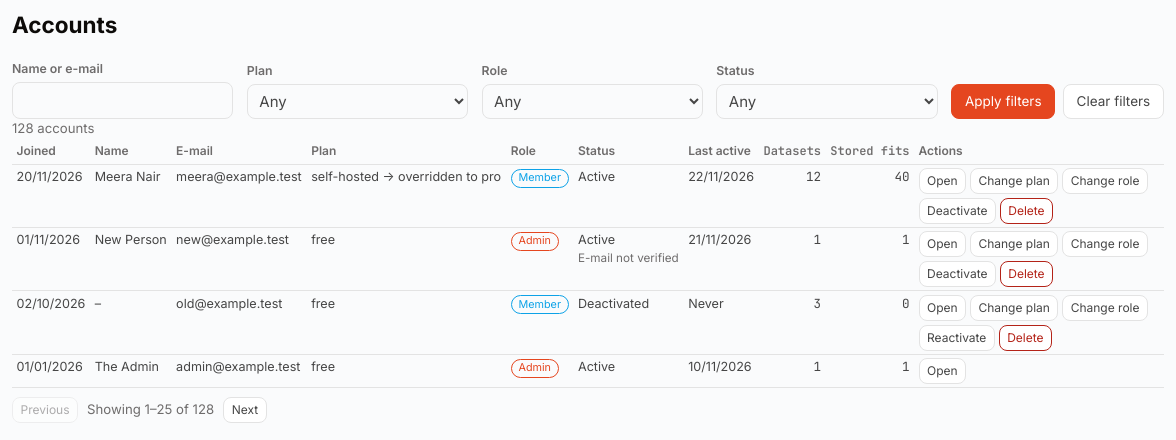
Test: UsersPage — filters and pages › clears the filters back to the unfiltered first page
Expected: the table named "Accounts" is shown, left=12, top=139, right=1164, bottom=388
In the search field labelled "Name or e-mail": (123, 101) left=12, top=82, right=233, bottom=119, type "meera"
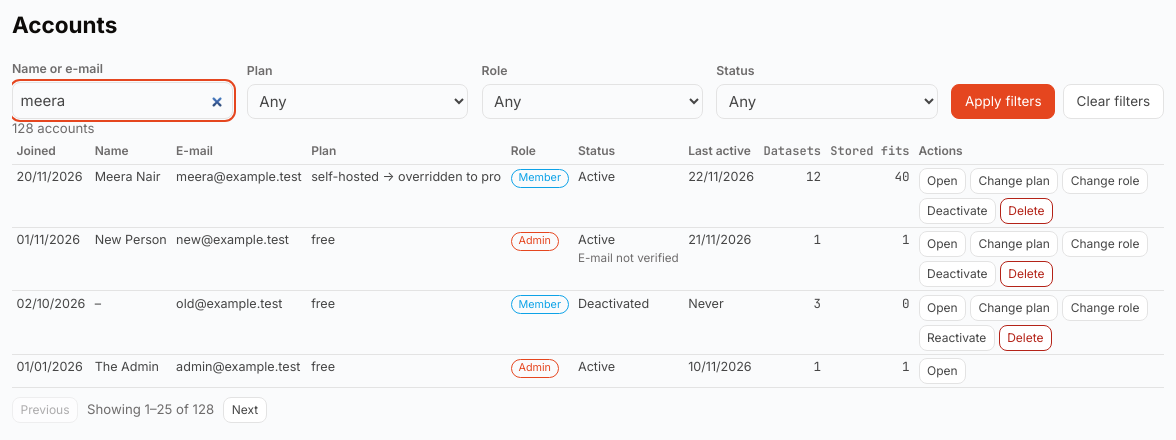
Select "Administrator" in the dropdown labelled "Role": (592, 102) left=482, top=84, right=703, bottom=119
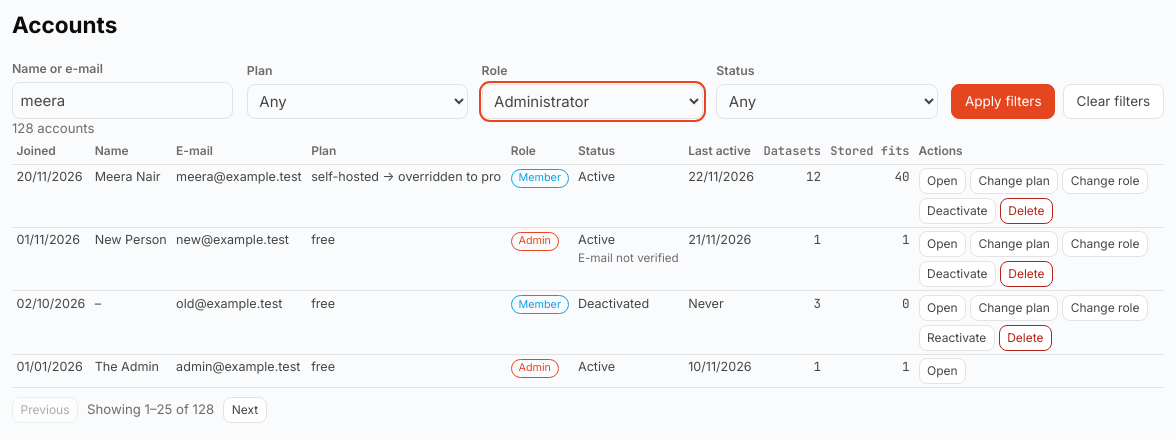
Click the button "Apply filters": (1003, 102) left=951, top=84, right=1055, bottom=119
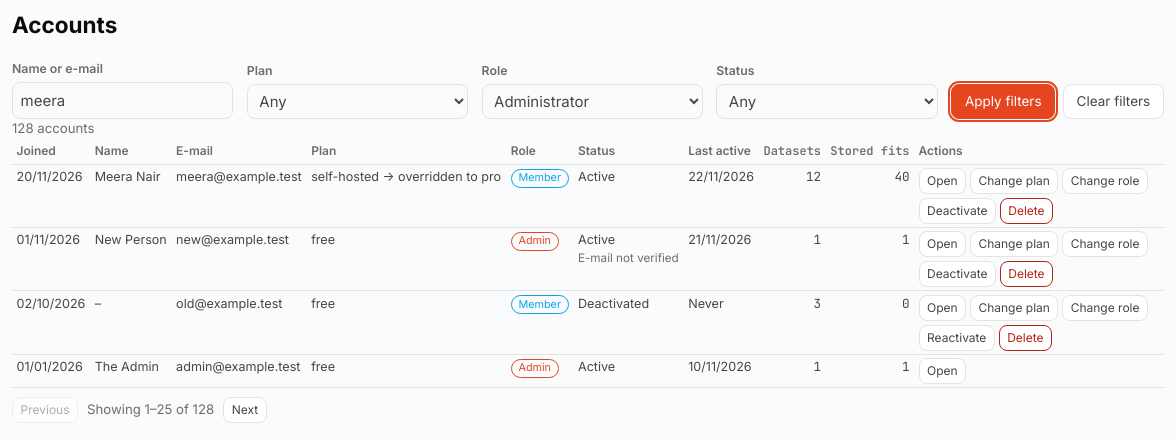
Expected: the table named "Accounts" is shown, left=12, top=139, right=1164, bottom=388
Click the button "Clear filters": (1113, 102) left=1063, top=84, right=1164, bottom=119
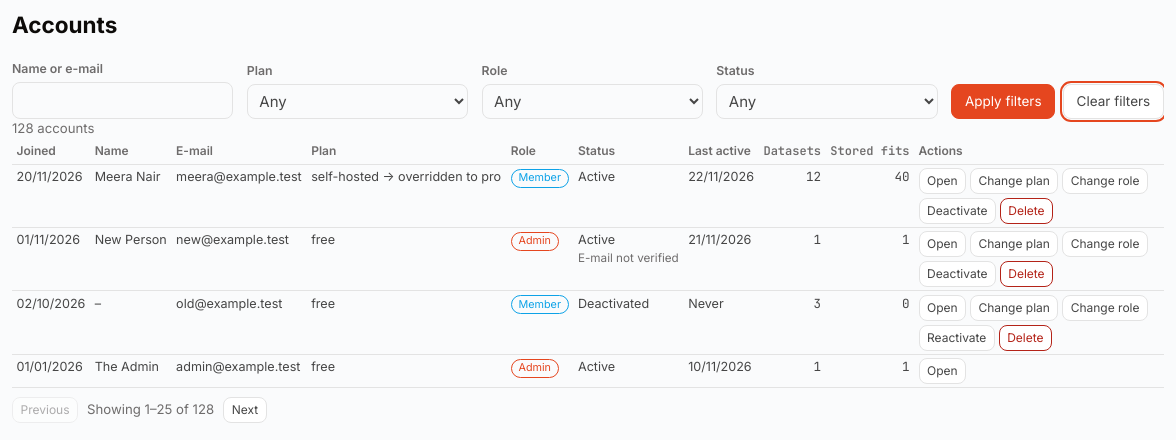
Expected: the table named "Accounts" is shown, left=12, top=139, right=1164, bottom=388
Expected: the search field labelled "Name or e-mail" is empty, left=12, top=82, right=233, bottom=119
